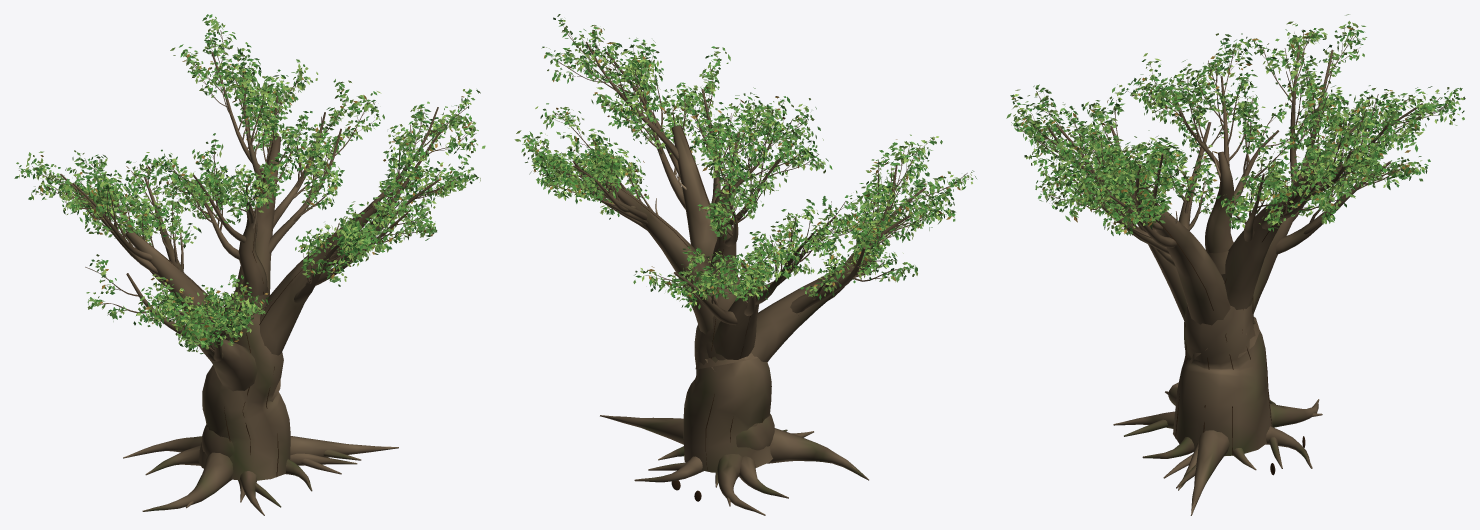
Rendered from ancient_tree_04_lod1.glb.
The picture shows the model from 3 angles, left to right: view 1: azimuth 30°, elevation 25°; view 2: azimuth 150°, elevation 25°; view 3: azimuth 270°, elevation 25°; orthographic projection. The views are drawn at different scales.
Parts seen in each view (by area): view 1: AncientLeaves_LOD1, AncientTreeWood_LOD1, FineBranches_LOD1; view 2: AncientLeaves_LOD1, AncientTreeWood_LOD1, FineBranches_LOD1; view 3: AncientTreeWood_LOD1, AncientLeaves_LOD1, FineBranches_LOD1, DirectedBarkGrooves_LOD1.
Boxes of the visible parts, <box> form: AncientLeaves_LOD1: <box>14,14,485,354</box>; AncientTreeWood_LOD1: <box>32,30,468,515</box>; FineBranches_LOD1: <box>19,31,474,347</box>; AncientLeaves_LOD1: <box>514,14,976,311</box>; AncientTreeWood_LOD1: <box>529,33,967,515</box>; FineBranches_LOD1: <box>526,22,968,301</box>; AncientTreeWood_LOD1: <box>1016,29,1448,515</box>; AncientLeaves_LOD1: <box>1006,14,1465,235</box>; FineBranches_LOD1: <box>1015,27,1455,231</box>; DirectedBarkGrooves_LOD1: <box>1159,152,1308,455</box>.
Size of the model in its own units: 23.21 by 21.93 by 22.19.
